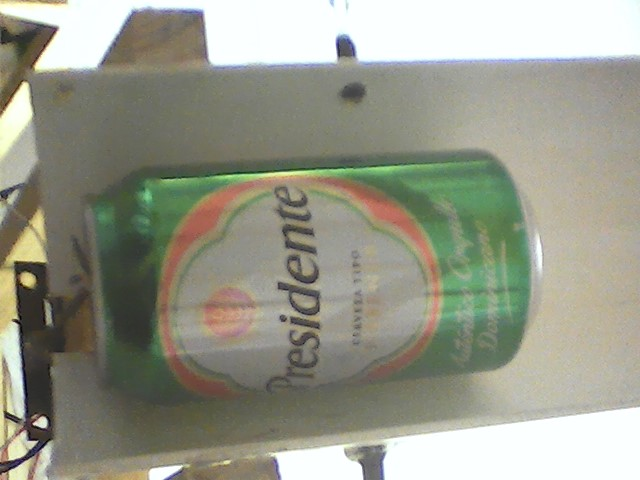lata: (75, 146, 553, 414)
